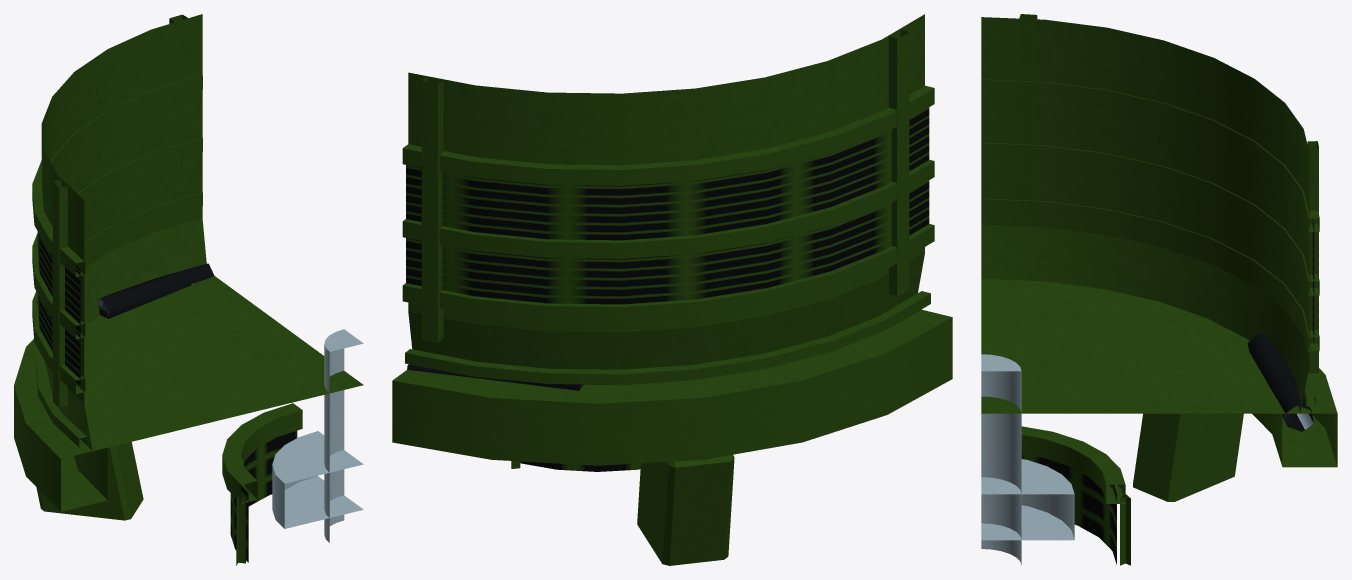
File: cell_17.obj
3 views of the same model, side by side, from view 1: azimuth 30°, elevation 25°; view 2: azimuth 150°, elevation 25°; view 3: azimuth 270°, elevation 25° (orthographic). The views are drawn at different scales.
Visible parts, largest first — view 1: cell_17; view 2: cell_17; view 3: cell_17.
Part boxes in pixels (x1,y1,x2,y2): cell_17: (14,14,363,565); cell_17: (392,14,952,565); cell_17: (981,14,1337,565).
Size of the model in its own units: 0.7875 by 1 by 0.7875.
